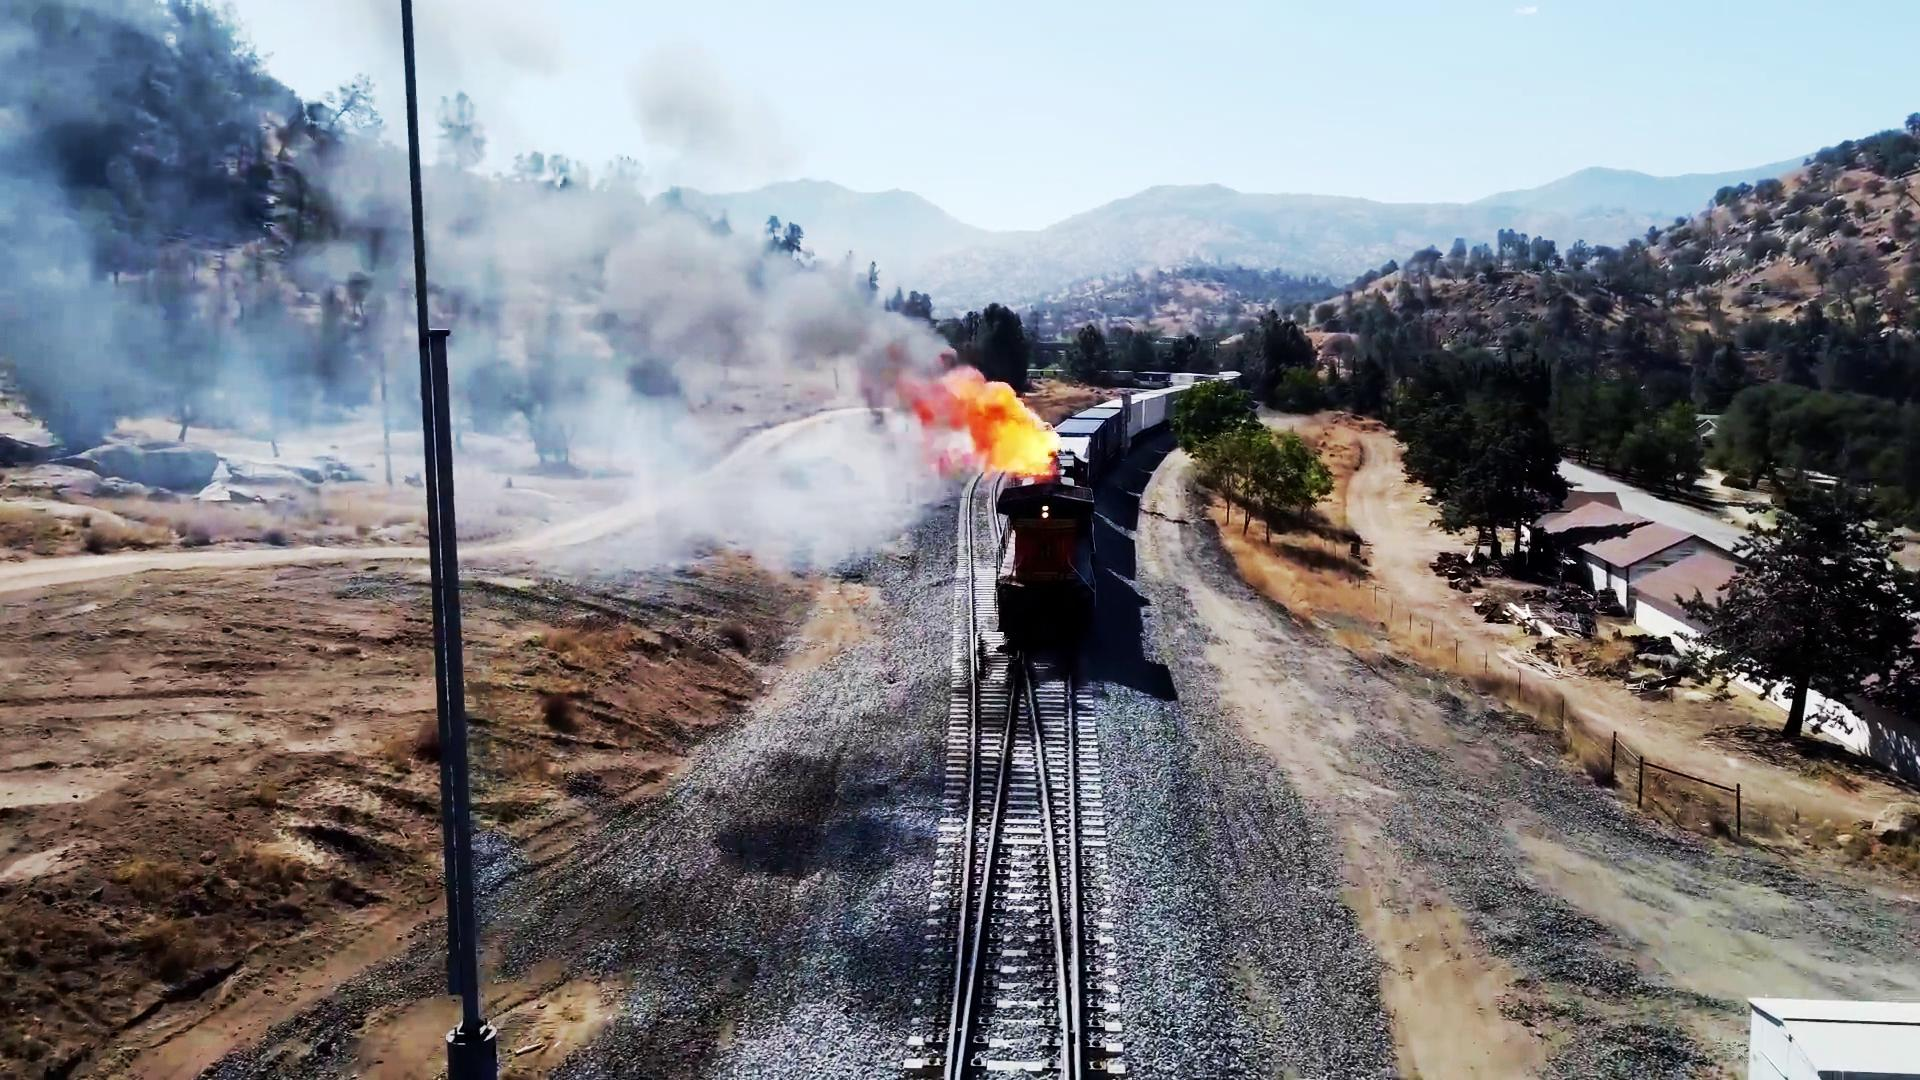fire: (638, 208, 877, 394), (945, 373, 1067, 488)
